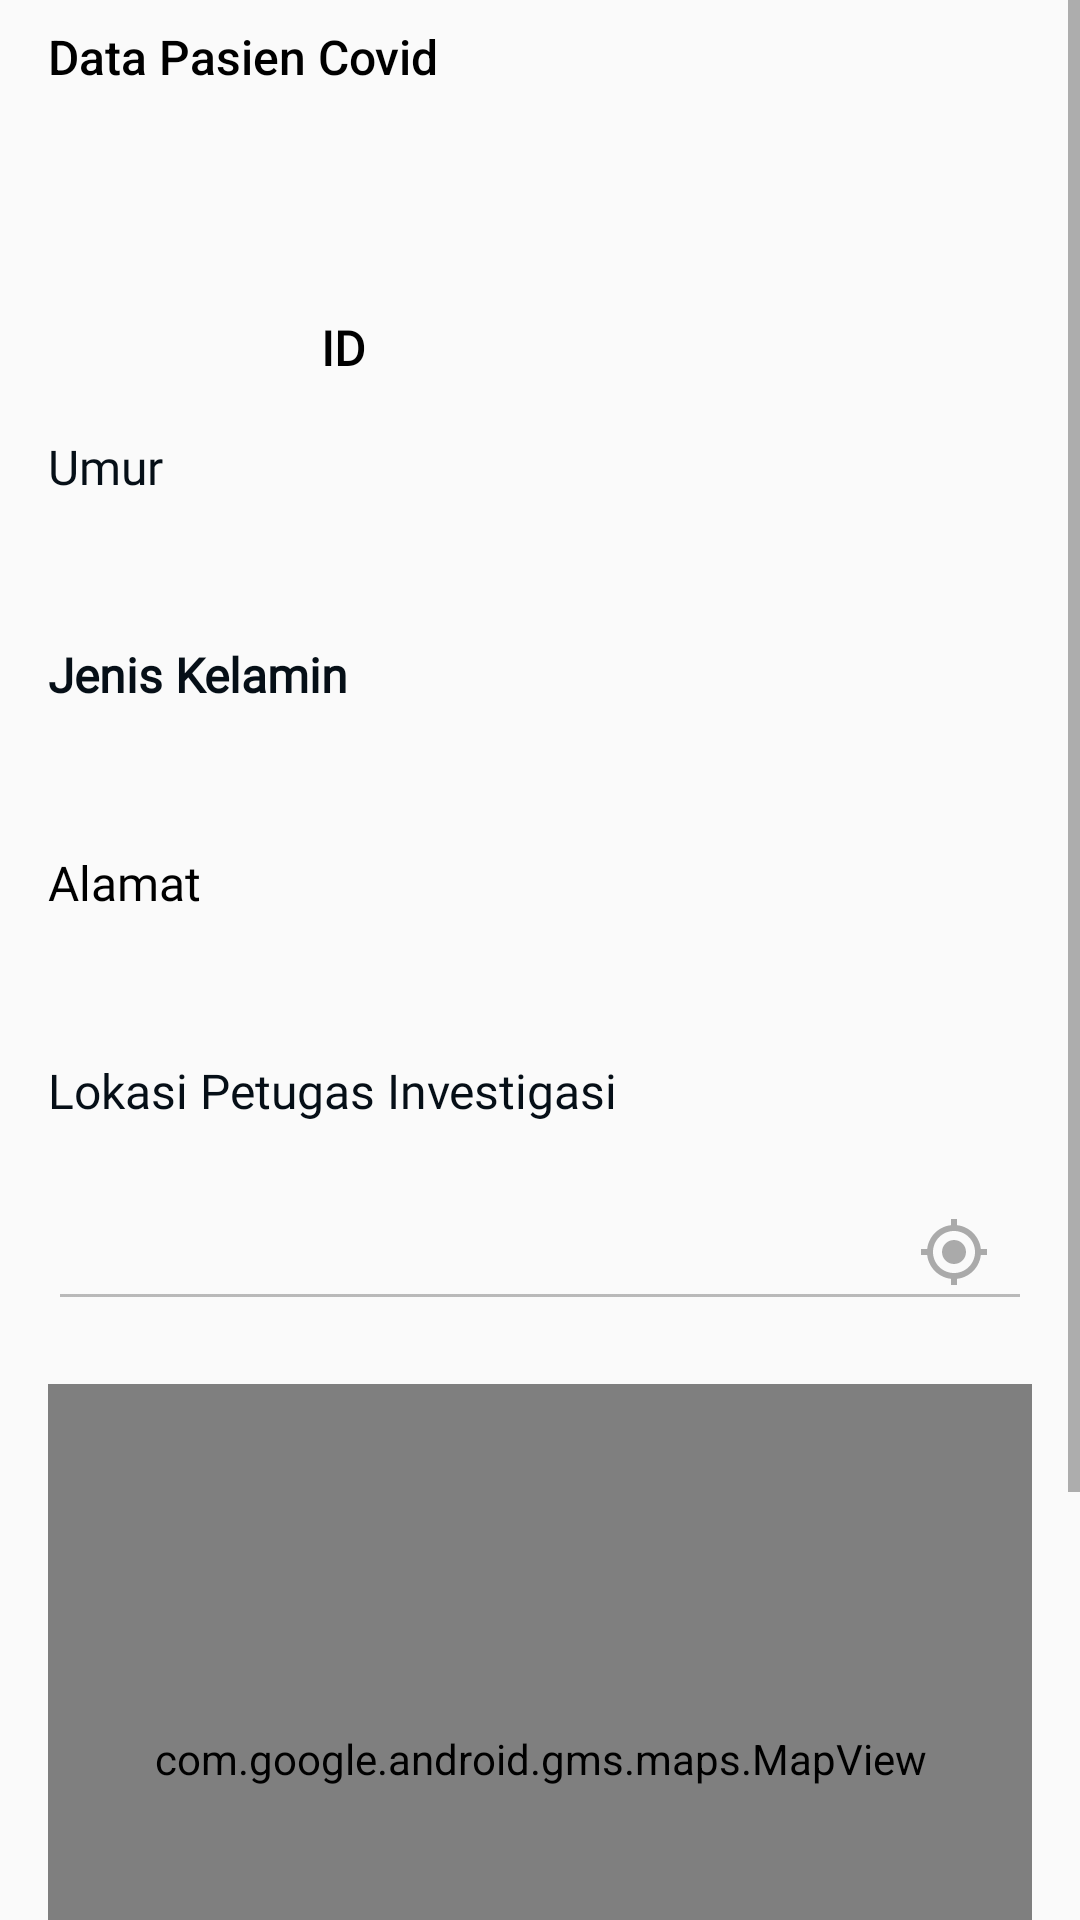

Icon click points for this 1080px x 1920px phone screenshot, format (x=x, y=y):
gps fixed: (x=954, y=1252)
